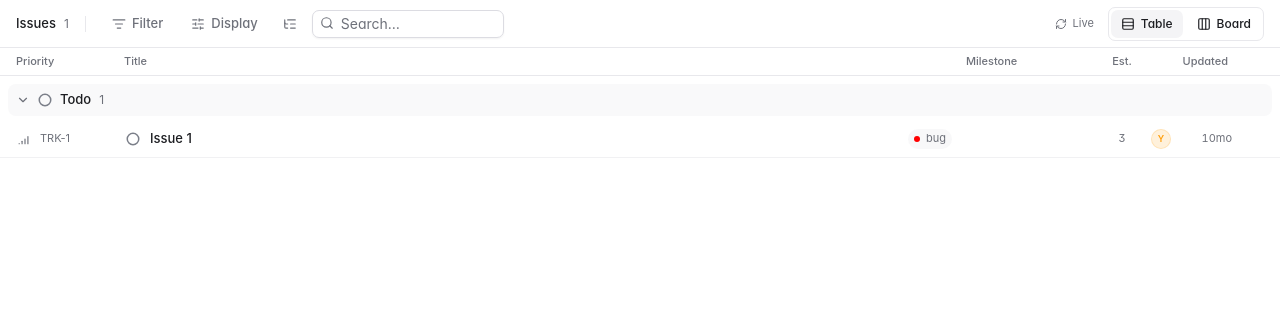
Test case: inline edit in the table › shows the conflict notice with the current issue, and re-applies against it
Click the button with aria-label "Change labels of TRK-1" at [930, 138], box [906,128,954,148]
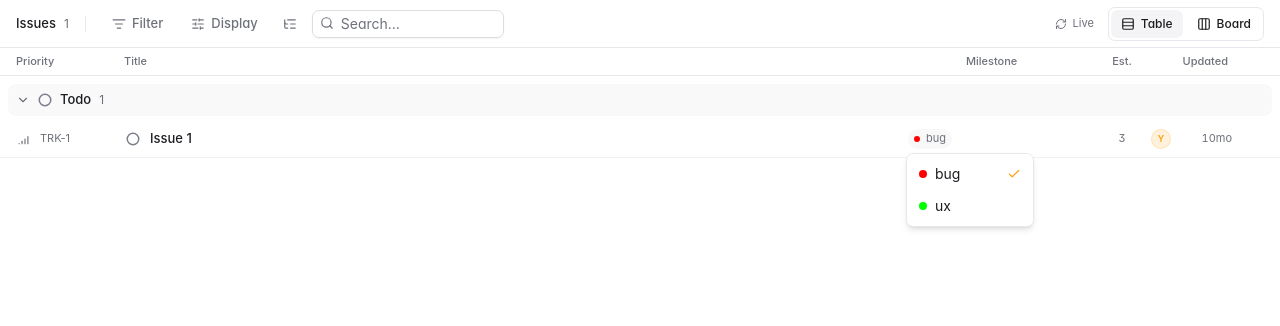
Click the menu item "bug" at [923, 174], box [919,165,1021,182]
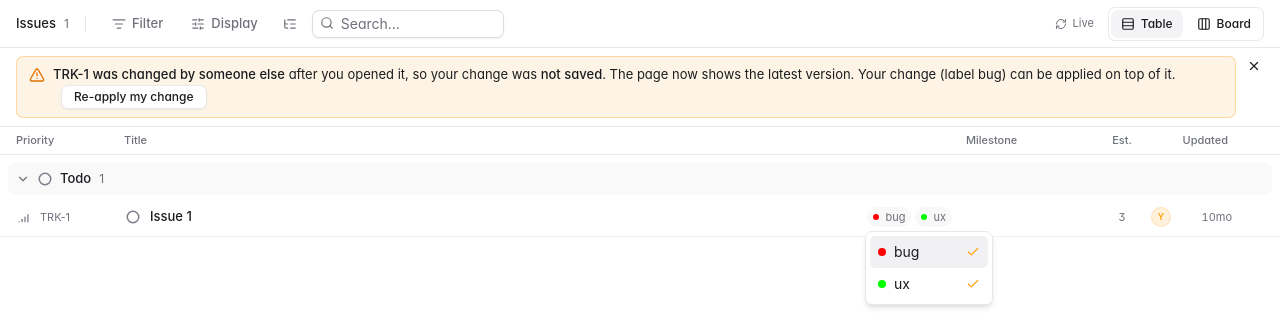
Press Escape
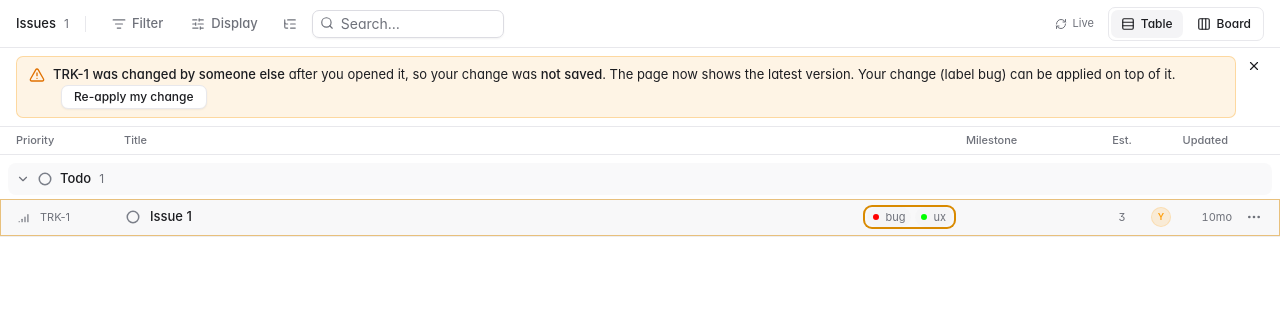
expect the message shows "TRK-1 was changed by someone else": met, box [16,56,1236,118]
expect the message shows "not saved": met, box [541,66,602,82]
Click the button "Re-apply my change" at [134, 96], box [61,84,206,108]
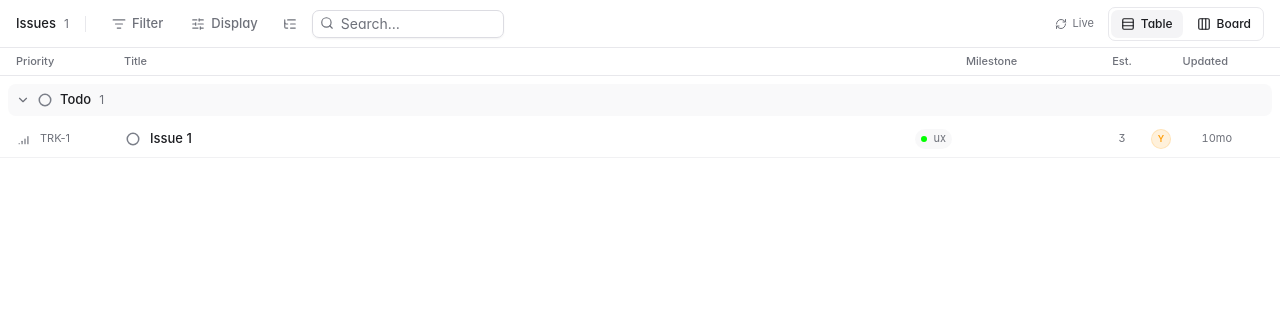
expect the message is gone: met
